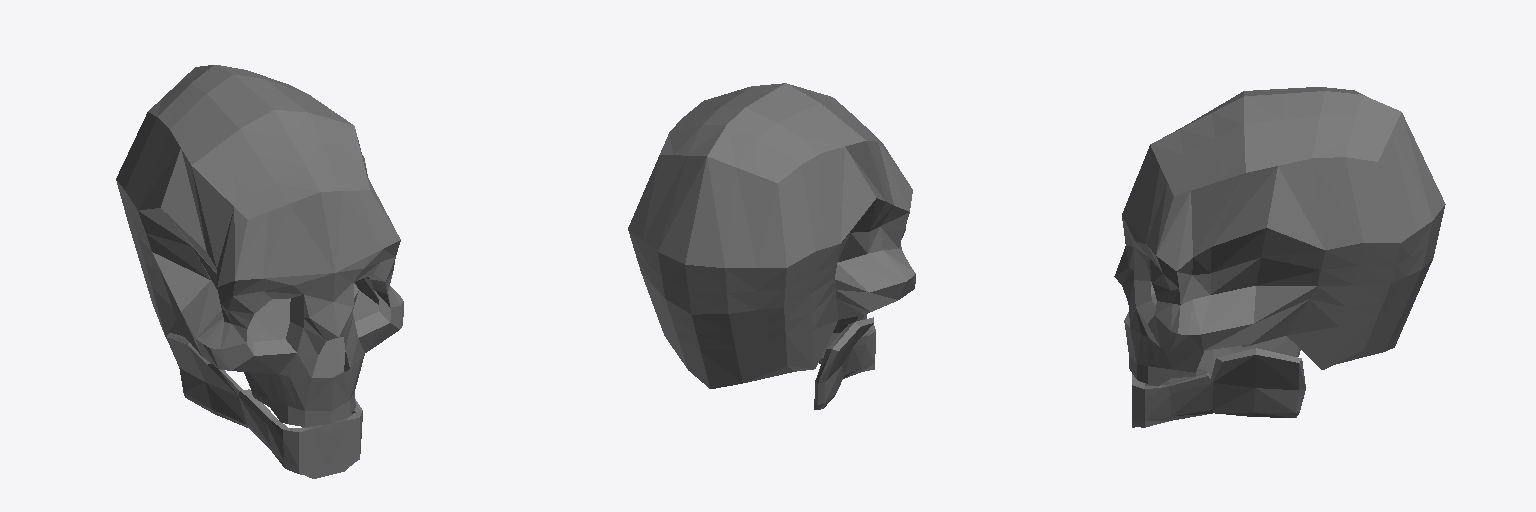
Rendered from skull#2.obj.
The picture shows the model from 3 angles: view 1: azimuth 30°, elevation 25°; view 2: azimuth 150°, elevation 25°; view 3: azimuth 270°, elevation 25°; orthographic projection.
Visible parts, largest first — view 1: skull:pCube6; view 2: skull:pCube6; view 3: skull:pCube6.
Boxes of the visible parts, <box> form: skull:pCube6: <box>116,65,403,478</box>; skull:pCube6: <box>628,83,915,409</box>; skull:pCube6: <box>1114,87,1445,427</box>.
Bounding box in the file's own units: 17.82 × 27.53 × 25.03.